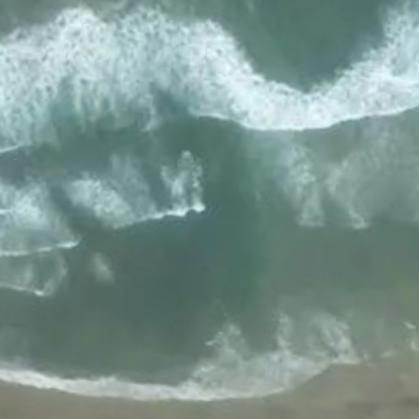rip_current: (165, 91, 315, 377)
